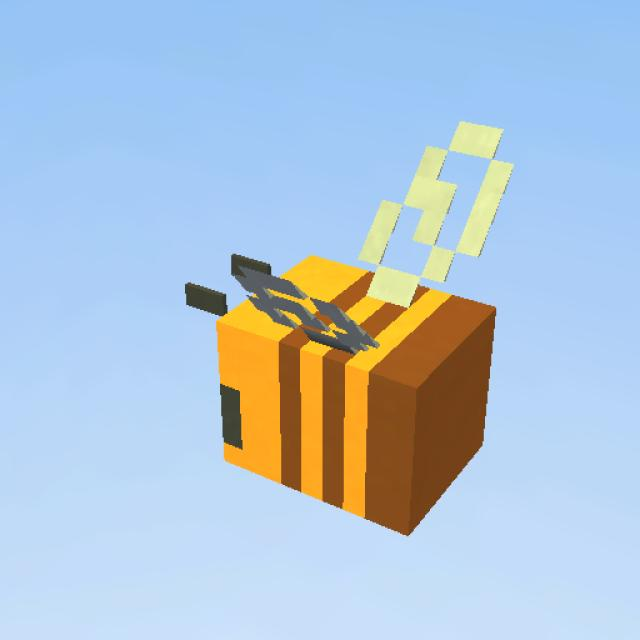Bee: (181, 116, 521, 536)
